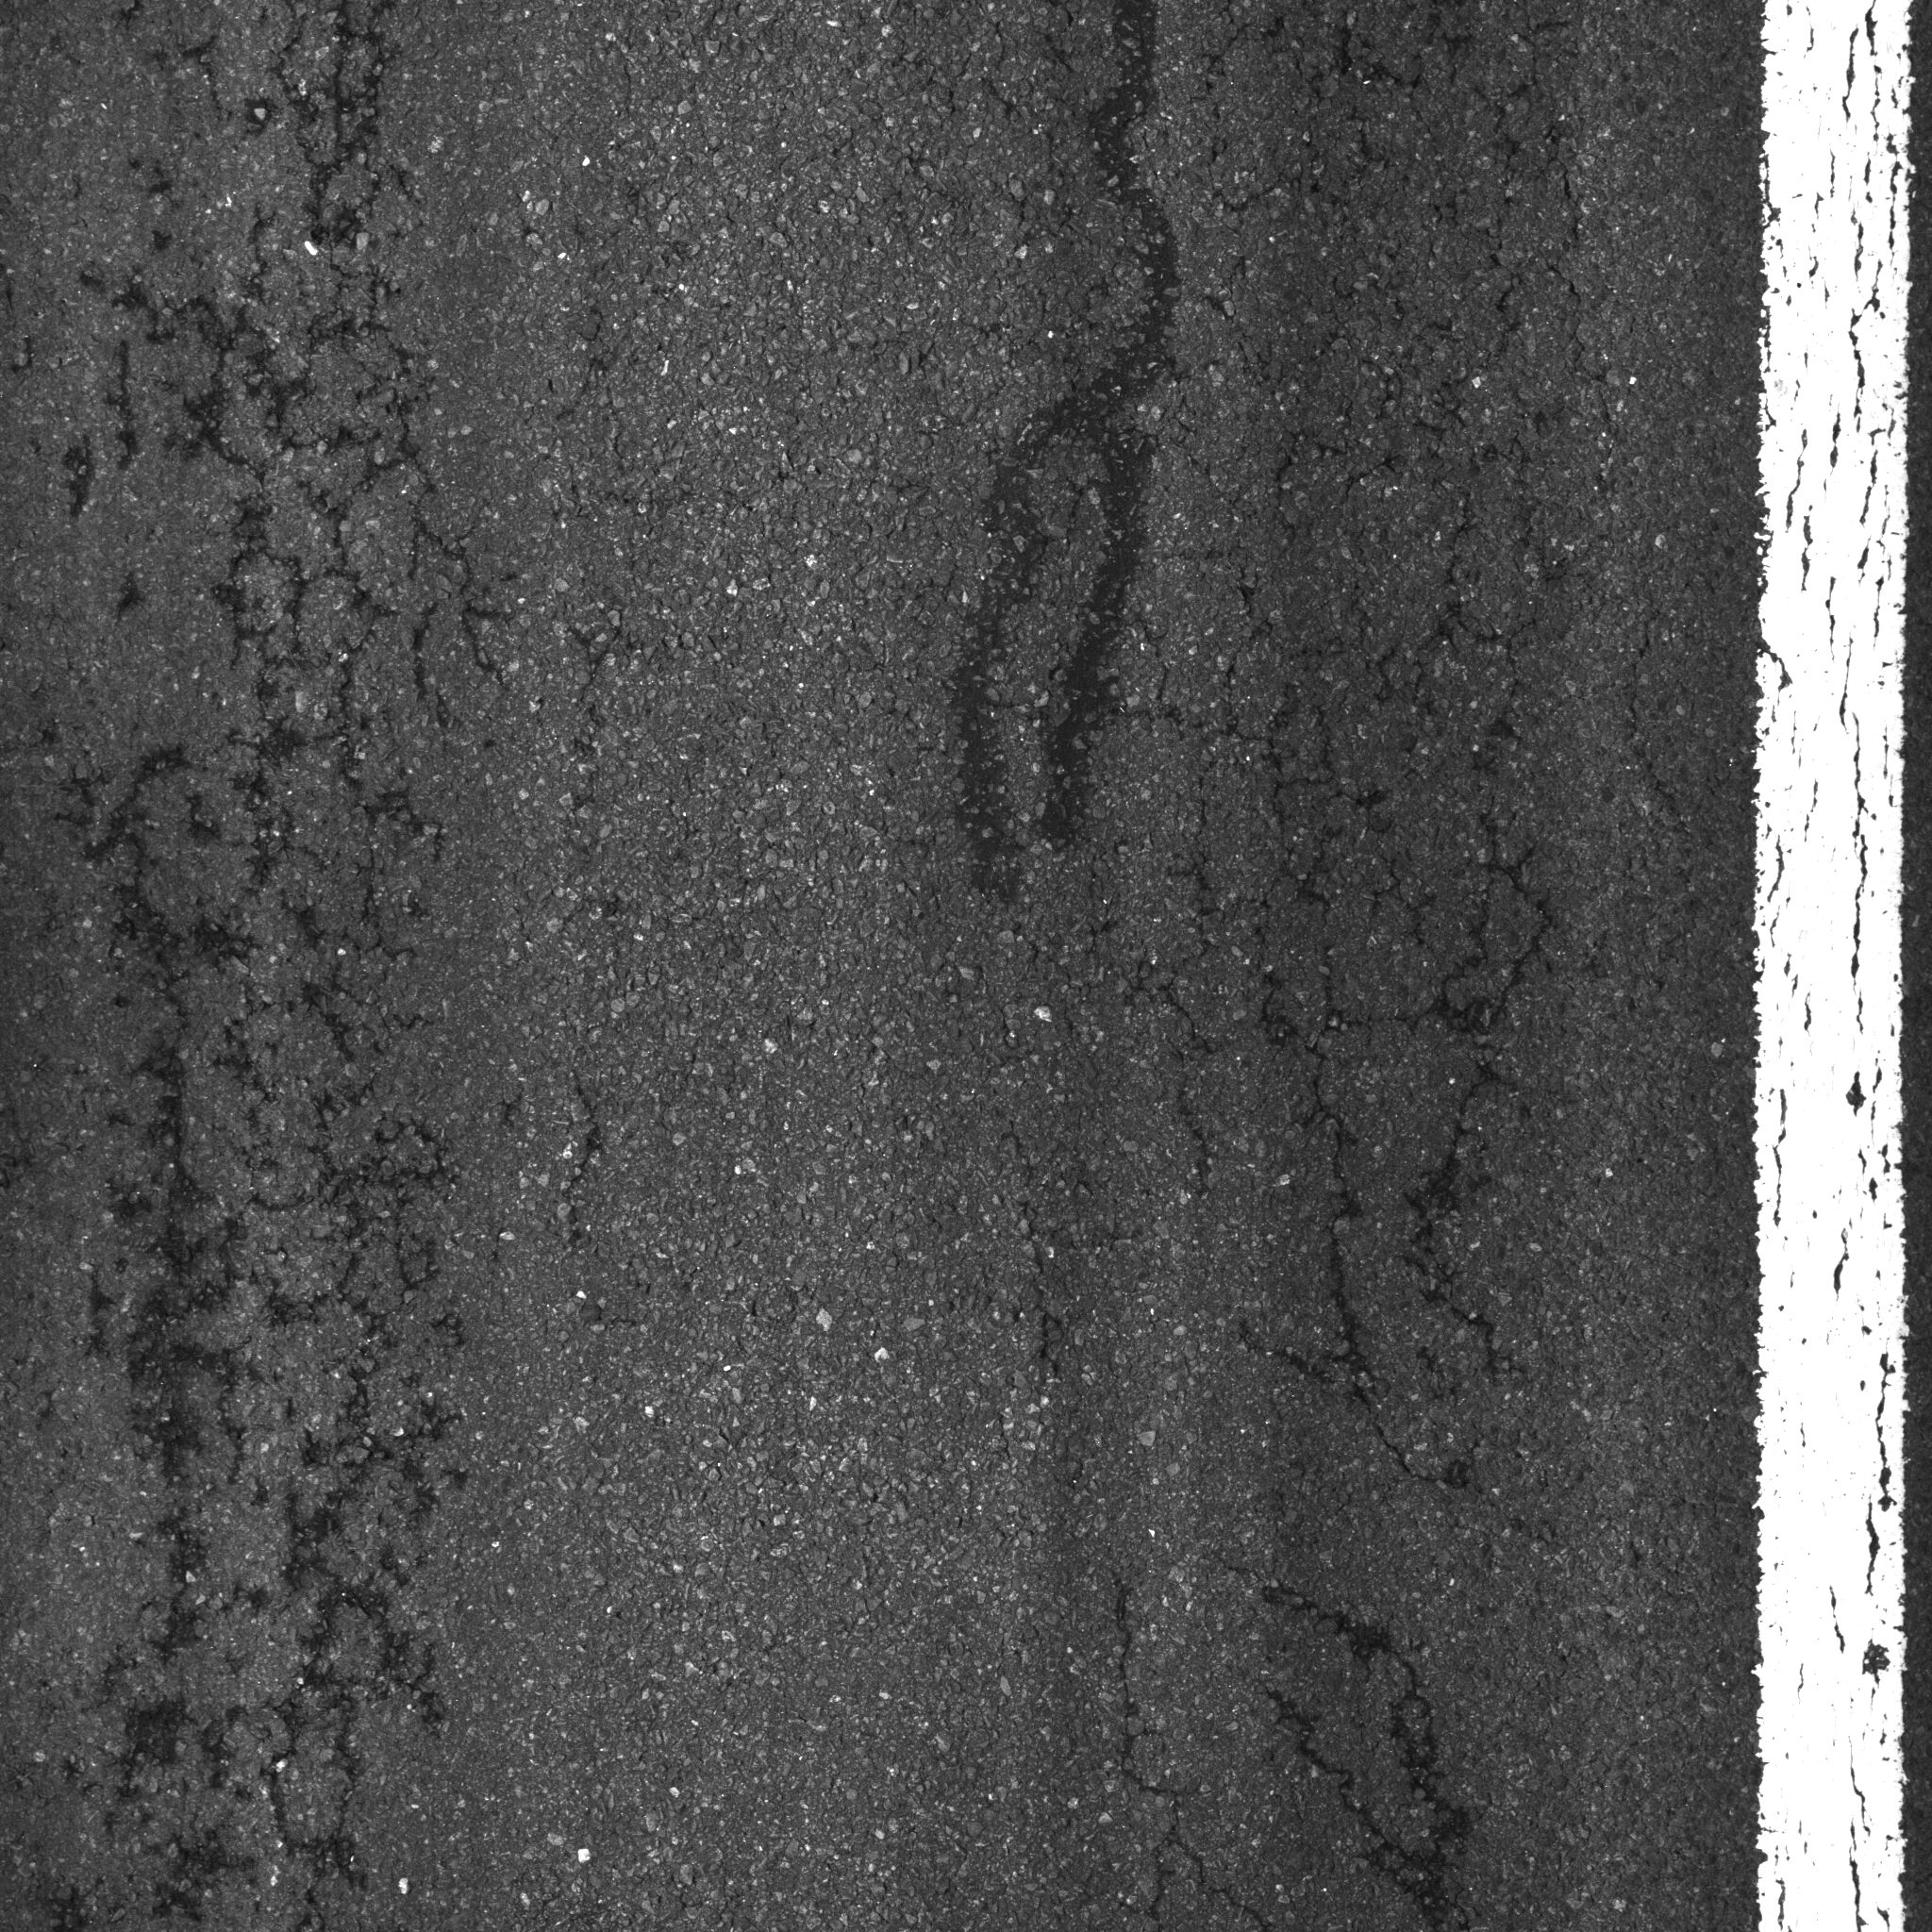alligator: (929, 16, 1681, 1932), (51, 12, 617, 1932)
